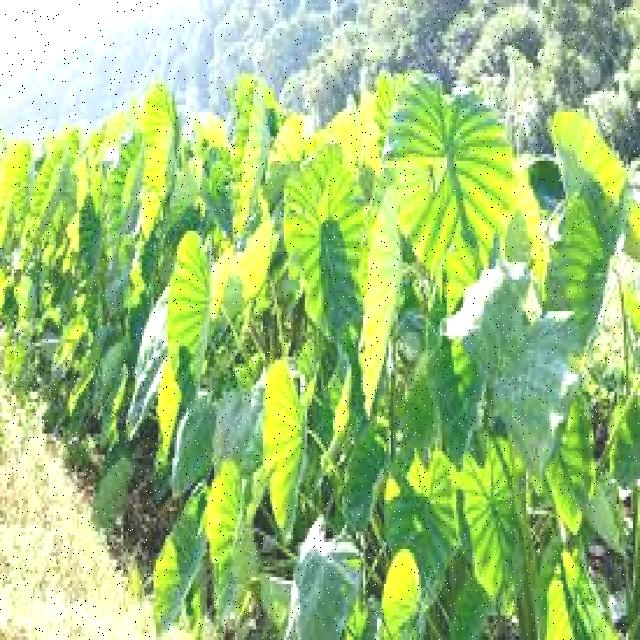Taro Leaves: (369, 68, 522, 280), (278, 125, 382, 355), (454, 412, 526, 640), (255, 358, 340, 548), (547, 189, 640, 357), (381, 438, 462, 617), (152, 496, 245, 634), (162, 231, 227, 424), (43, 132, 102, 254), (108, 159, 168, 262)
